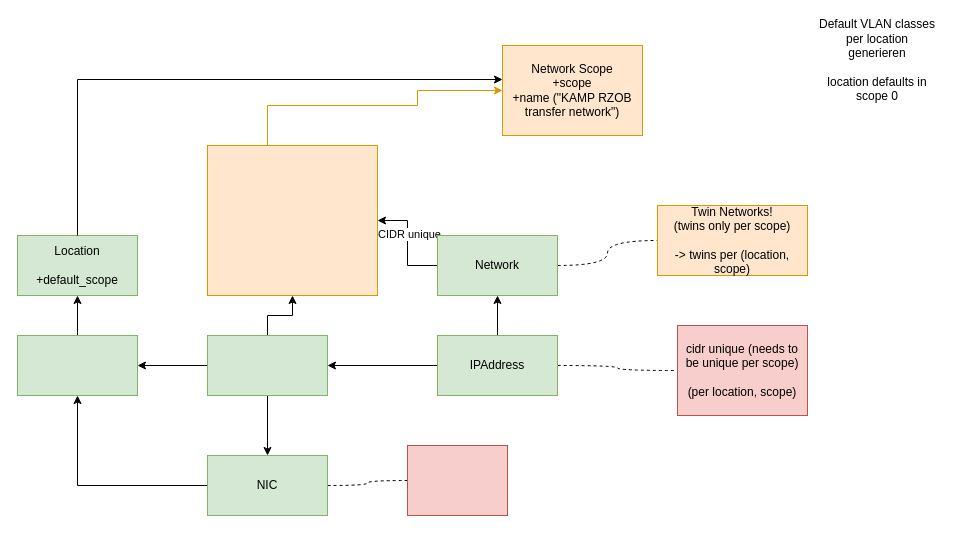
This 955x533 diagram has some shape labels left out. The centre of each missing label's shape, as x and y in pixels:
mac unique (needs to be unique in vlan): pixel 457 480
Network Interface: pixel 267 365
Node: pixel 77 365
VLAN +scope +identifier +name unique: (scope, vni) unique: (scope, name): pixel 292 220
